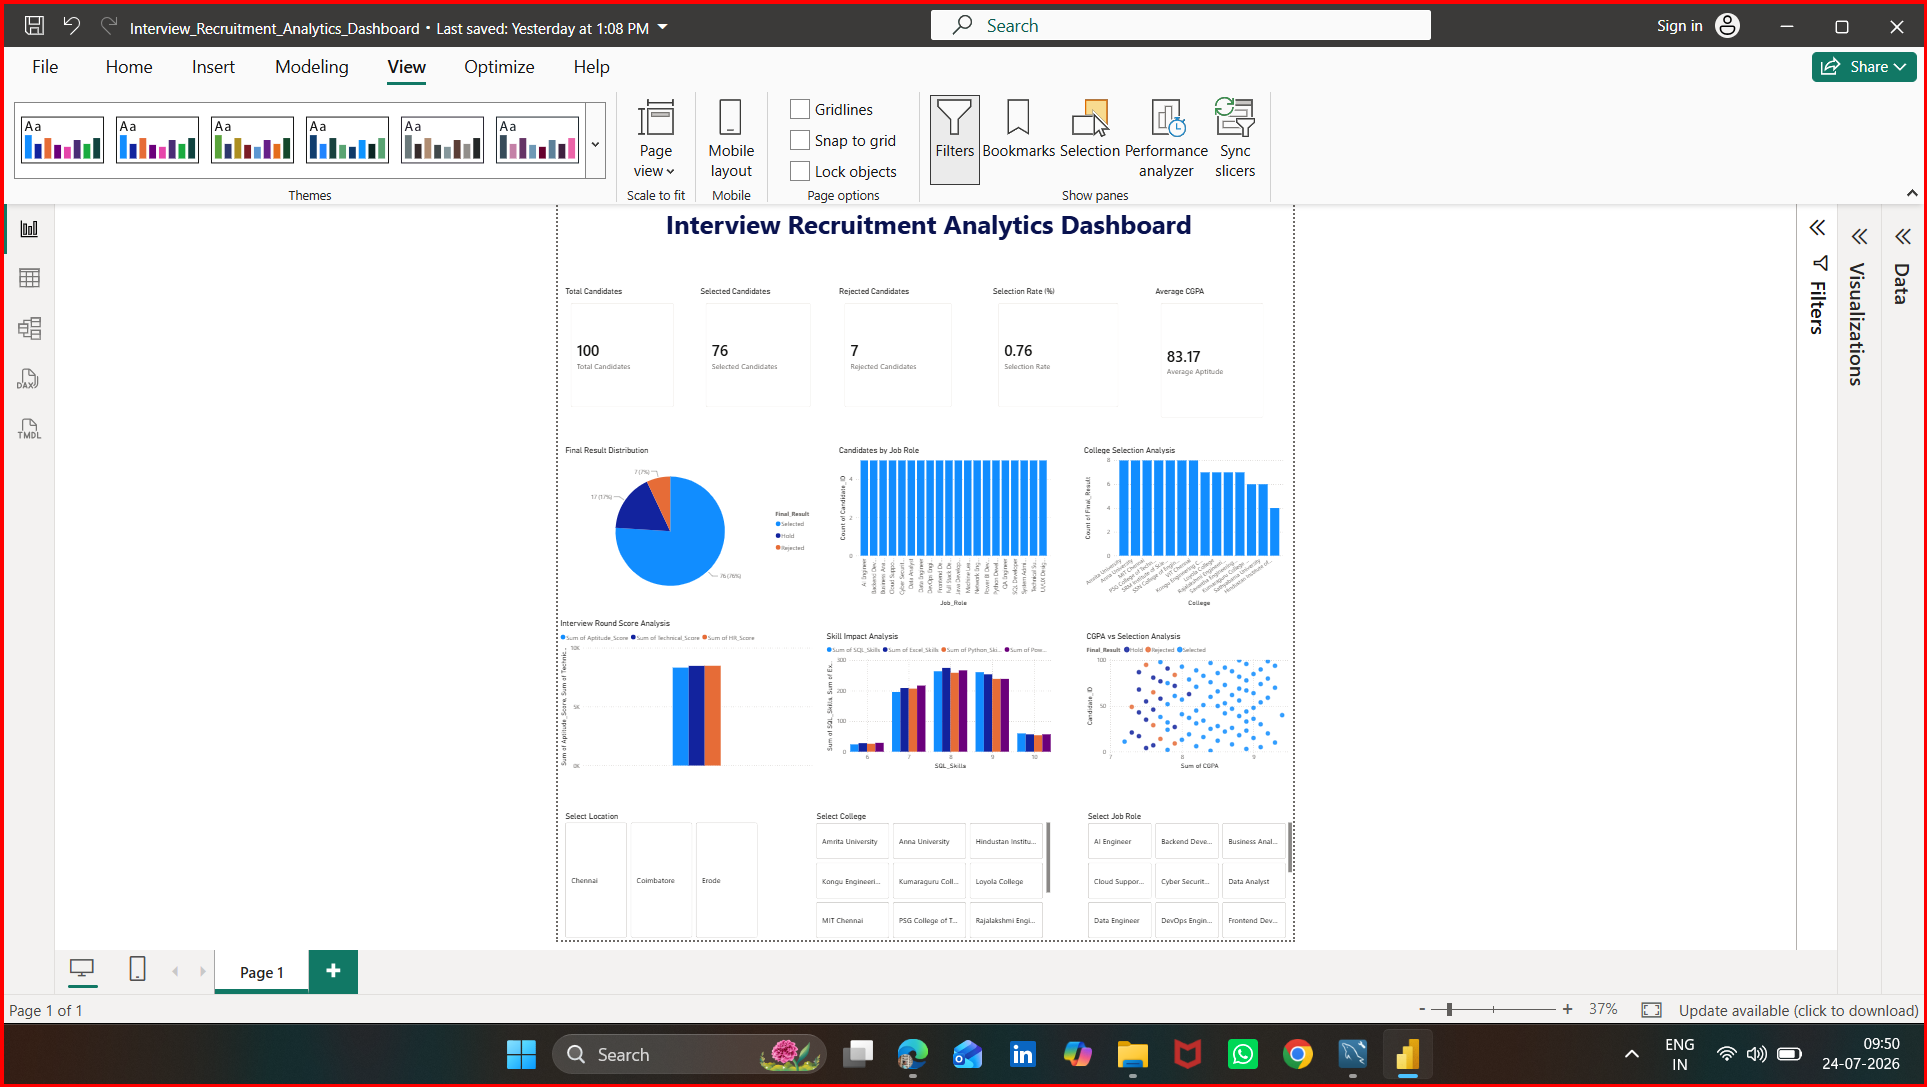

What the dashboard file says about the page in this screenshot:
{"tool":"powerbi","page":{"name":"Page 1","canvas":[1600,1600],"ordinal":0},"visuals":[{"type":"cardVisual","title":"Total Candidates","fields":{"Data":["job_details.Total Candidates"]},"box":[10,180,258,280],"z":0},{"type":"cardVisual","title":"Average CGPA","fields":{"Data":["candidate_details.Average Aptitude"]},"box":[1292.5,180,257.5,302.5],"z":1},{"type":"cardVisual","title":"Selection Rate (%)","fields":{"Data":["candidate_details.Selection Rate"]},"box":[940,180,295,280],"z":2},{"type":"cardVisual","title":"Selected Candidates","fields":{"Data":["candidate_details.Selected Candidates"]},"box":[305,180,262.5,280],"z":3},{"type":"cardVisual","title":"Rejected Candidates","fields":{"Data":["candidate_details.Rejected Candidates"]},"box":[605,180,267.5,280],"z":4},{"type":"pieChart","title":"Final Result Distribution","fields":{"Category":["interview_results.Final_Result"],"Y":["CountNonNull(interview_results.Candidate_ID)"]},"box":[10,525,557.5,355],"z":5},{"type":"clusteredColumnChart","title":"Candidates by Job Role","fields":{"Category":["job_details.Job_Role"],"Y":["CountNonNull(candidate_details.Candidate_ID)"]},"box":[605,525,470,355],"z":6},{"type":"clusteredColumnChart","title":"Interview Round Score Analysis","fields":{"Y":["Sum(interview_results.Aptitude_Score)","Sum(interview_results.Technical_Score)","Sum(interview_results.HR_Score)"]},"box":[0,902.5,557.5,332.5],"z":7},{"type":"clusteredColumnChart","title":"College Selection Analysis","fields":{"Category":["candidate_details.College"],"Y":["CountNonNull(interview_results.Final_Result)"]},"box":[1137.5,525,445,355],"z":8},{"type":"clusteredColumnChart","title":"Skill Impact Analysis","fields":{"Category":["candidate_skills.SQL_Skills"],"Y":["Sum(candidate_skills.SQL_Skills)","Sum(candidate_skills.Excel_Skills)","Sum(candidate_skills.Python_Skills)","Sum(candidate_skills.PowerBi_Skills)"]},"box":[577.5,930,497.5,305],"z":9},{"type":"scatterChart","title":"CGPA vs Selection Analysis","fields":{"X":["Sum(candidate_details.CGPA)"],"Y":["candidate_details.Candidate_ID"],"Series":["interview_results.Final_Result"]},"box":[1145,930,455,305],"z":10},{"type":"advancedSlicerVisual","title":"Select Job Role","fields":{"Values":["job_details.Job_Role"]},"box":[1146,1320,454,280],"z":11},{"type":"advancedSlicerVisual","title":"Select College","fields":{"Values":["candidate_details.College"]},"box":[558,1320,518,280],"z":12},{"type":"advancedSlicerVisual","title":"Select Location","fields":{"Values":["candidate_details.Location"]},"box":[10,1320,428,280],"z":13},{"type":"textbox","box":[10,0,1590,110],"z":14}]}

Visuals, with their boxes on the page's 1600x1600 design canvas (x1, y1, x2, y2). These are canvas units, not pixel positions in the 1927x1087 screenshot, which may show the page scaled, cropped or inside an application window:
"Total Candidates" cardVisual: 10,180,268,460
"Average CGPA" cardVisual: 1292,180,1550,482
"Selection Rate (%)" cardVisual: 940,180,1235,460
"Selected Candidates" cardVisual: 305,180,568,460
"Rejected Candidates" cardVisual: 605,180,872,460
"Final Result Distribution" pieChart: 10,525,568,880
"Candidates by Job Role" clusteredColumnChart: 605,525,1075,880
"Interview Round Score Analysis" clusteredColumnChart: 0,902,558,1235
"College Selection Analysis" clusteredColumnChart: 1138,525,1582,880
"Skill Impact Analysis" clusteredColumnChart: 578,930,1075,1235
"CGPA vs Selection Analysis" scatterChart: 1145,930,1600,1235
"Select Job Role" advancedSlicerVisual: 1146,1320,1600,1600
"Select College" advancedSlicerVisual: 558,1320,1076,1600
"Select Location" advancedSlicerVisual: 10,1320,438,1600
textbox: 10,0,1600,110
